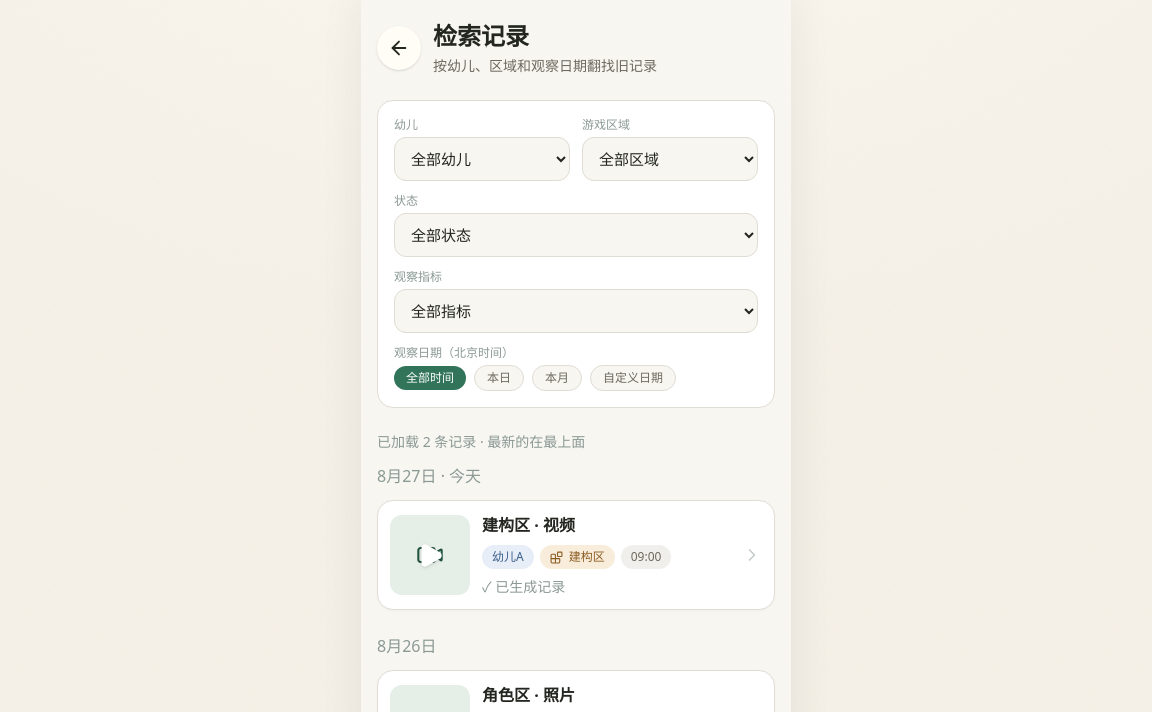
Test: record search page › ignores an inverted custom range and warns instead
Click the button "自定义日期" at (633,378), box [590, 365, 676, 391]
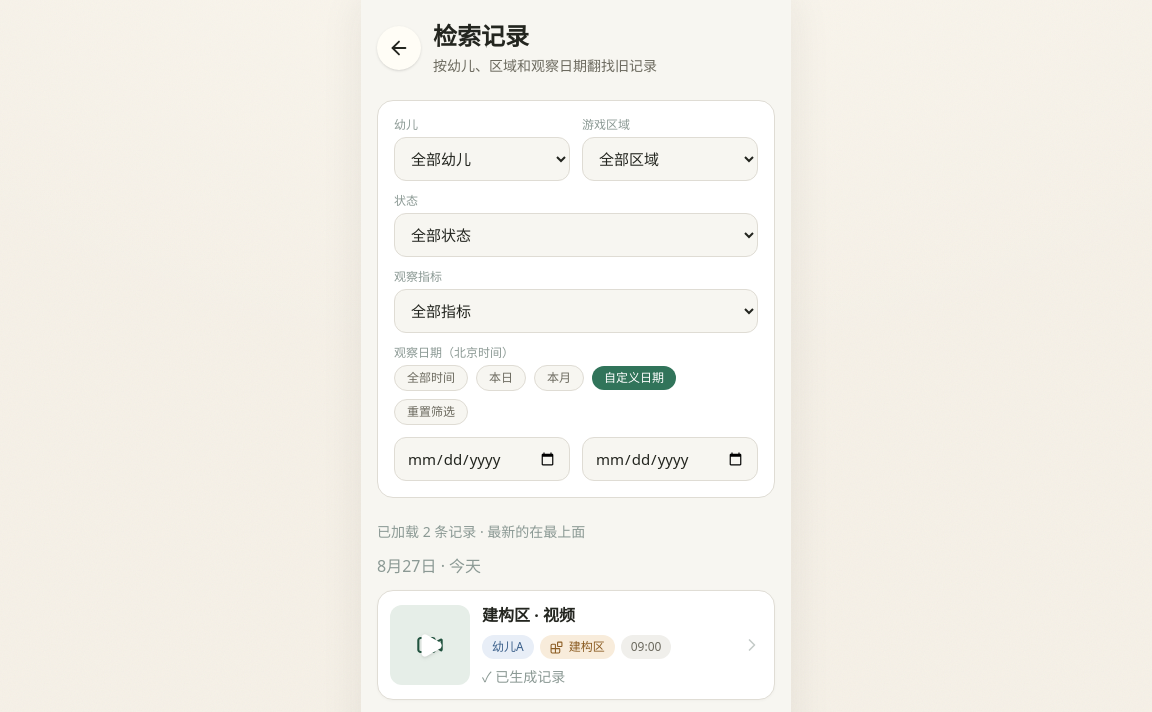
Type "2026-08-15" into the date field named "起始日期" at (482,459), box [394, 437, 570, 481]
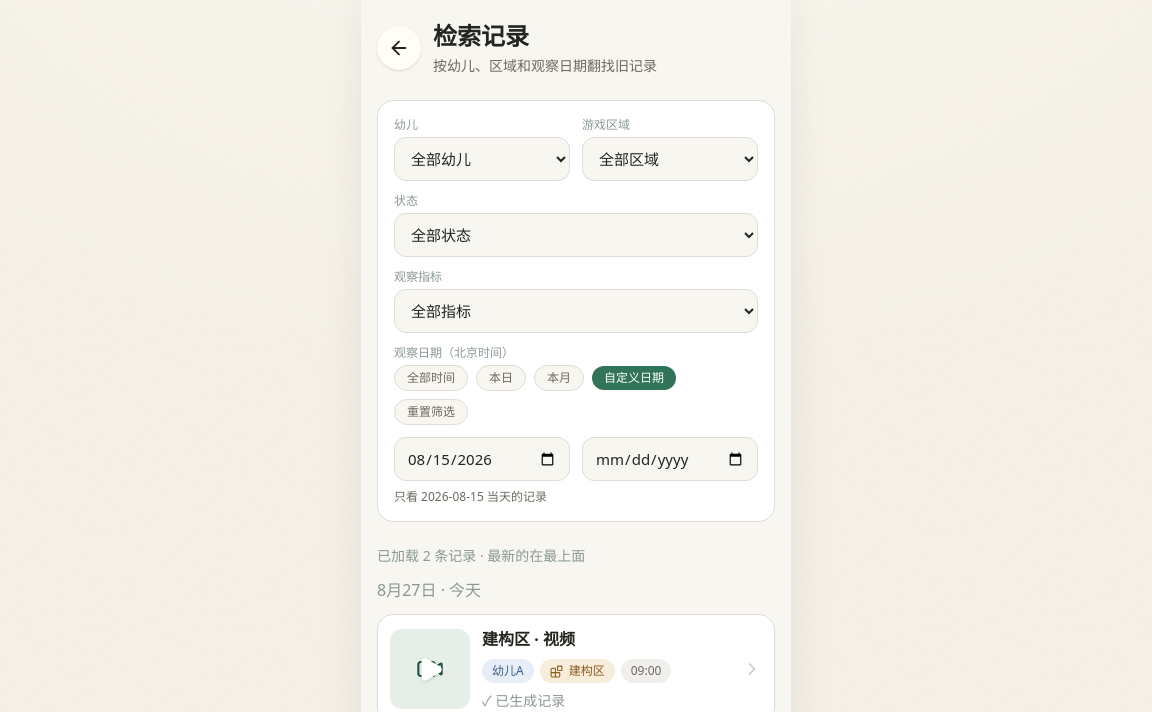
Type "2026-08-10" into the date field named "截止日期" at (670,459), box [582, 437, 758, 481]
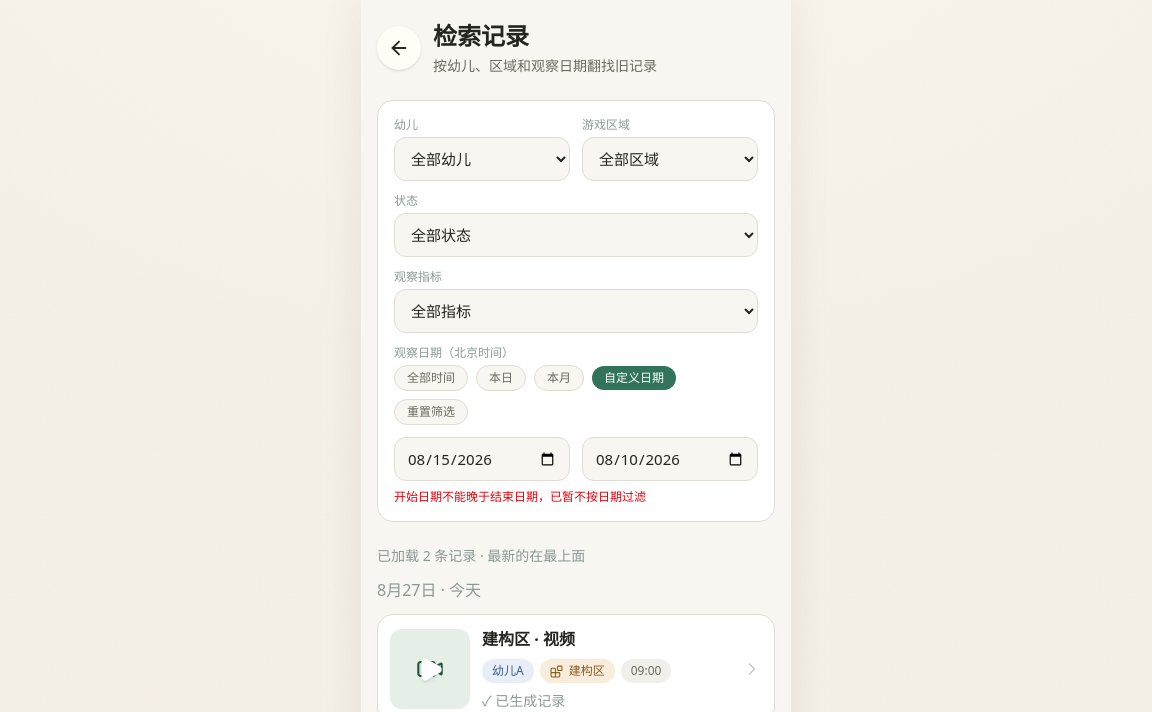
Check: the text "开始日期不能晚于结束日期，已暂不按日期过滤" is shown, box [394, 488, 646, 505]
